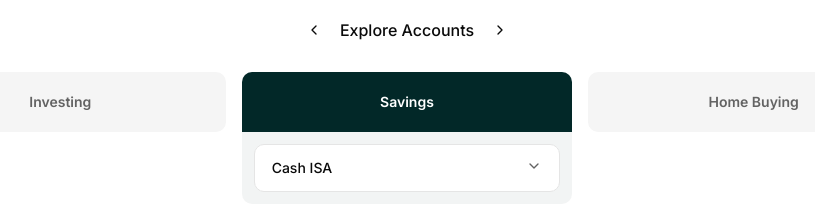
it: CategoryCarousel › goes to previous category on clicking previous button
Step 1. Click the button named "Previous category" → (314, 30), box [296,12,332,48]
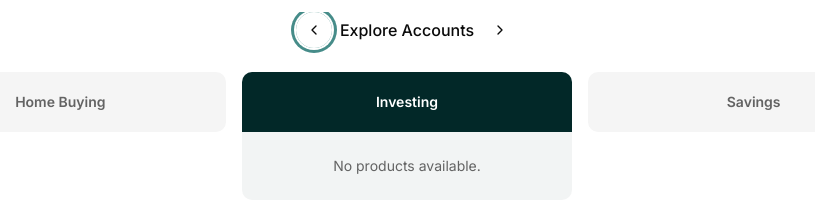
Result: the element named "Investing products" shows "Investing" at [376,93,438,110]
